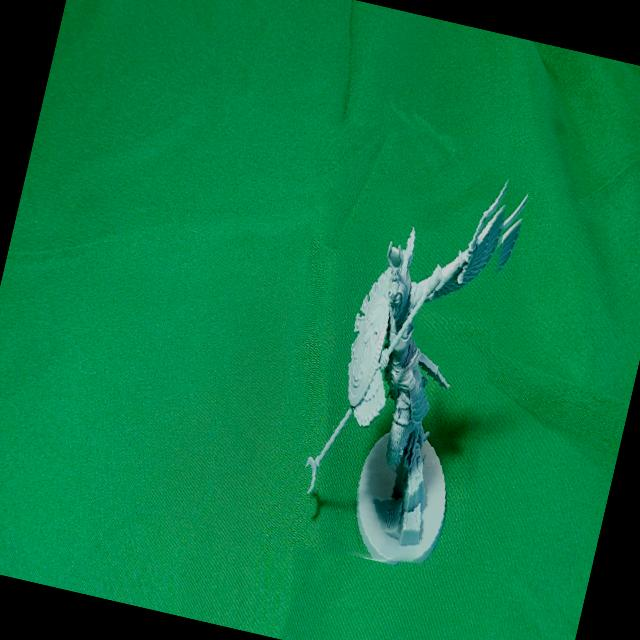isis: (240, 106, 550, 583)
